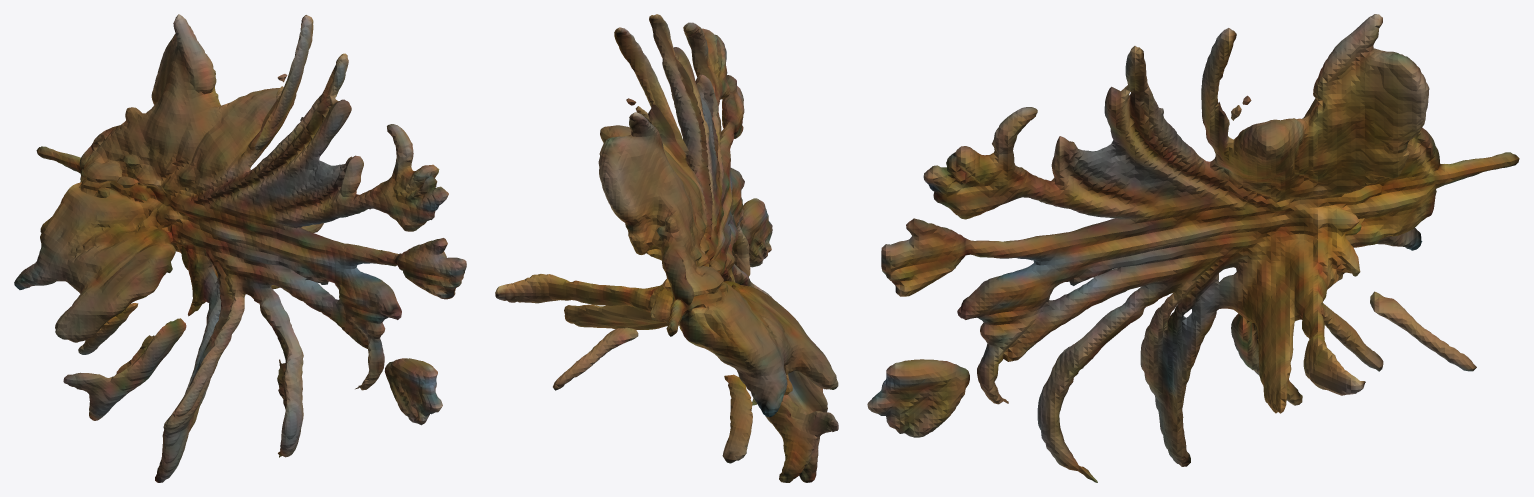
3 renders of one model, left to right at view 1: azimuth 30°, elevation 25°; view 2: azimuth 150°, elevation 25°; view 3: azimuth 270°, elevation 25°, orthographic. The views are drawn at different scales.
Bounding box in the file's own units: 0.6645 × 0.8666 × 0.9474.
